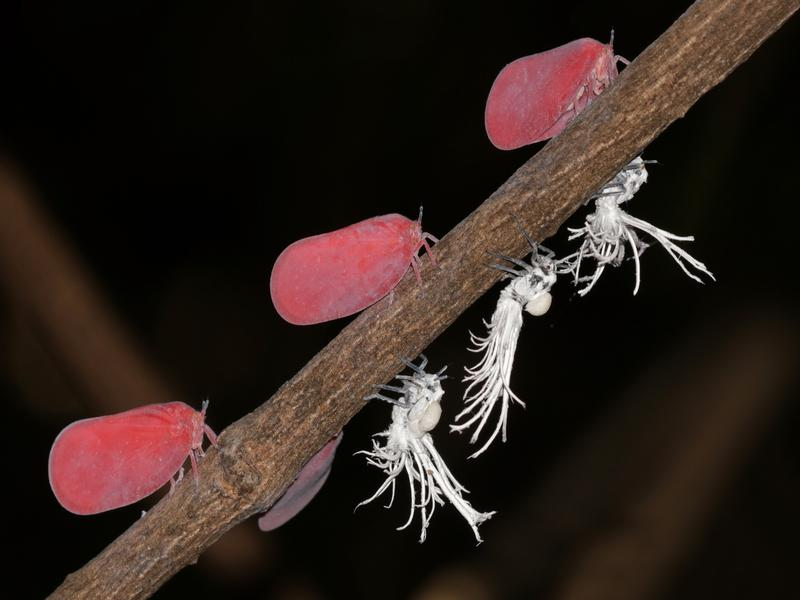White_backed_plant_hopper: (38, 396, 214, 515), (267, 207, 433, 330), (457, 244, 557, 444), (479, 38, 615, 154), (359, 365, 450, 516), (589, 160, 677, 276)
